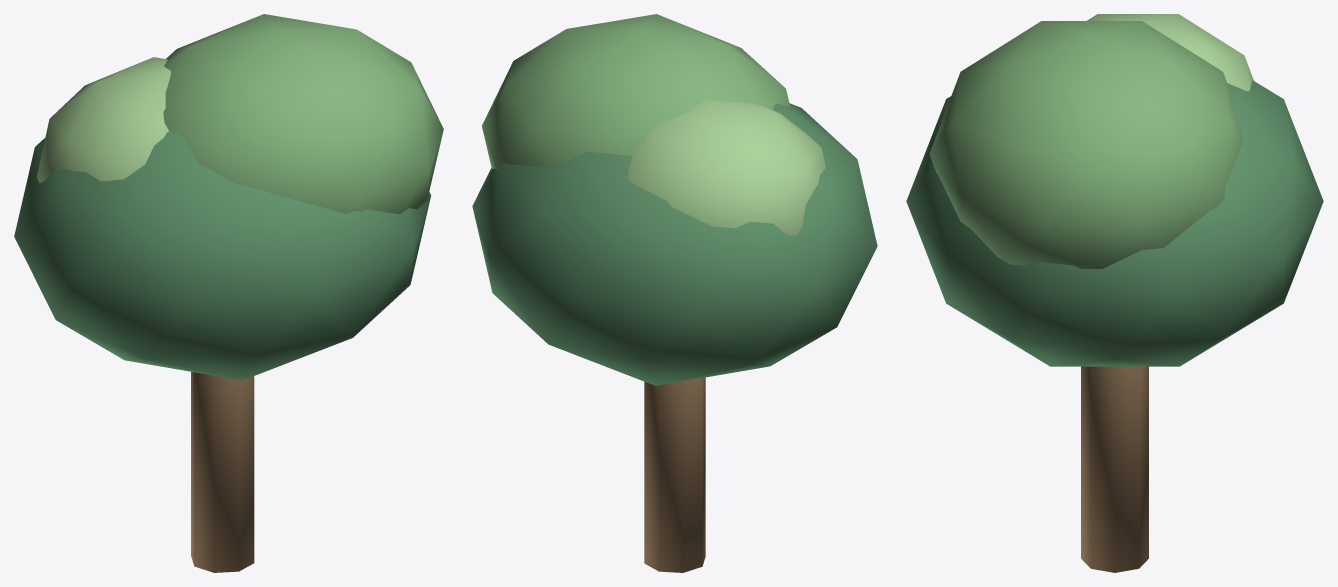
Rendered from tree.glb.
3 views of the same model, side by side, from view 1: azimuth 30°, elevation 25°; view 2: azimuth 150°, elevation 25°; view 3: azimuth 270°, elevation 25° (orthographic). The views are drawn at different scales.
Visible parts, largest first — view 1: CanopyLow, CanopyMid, Trunk, CanopyHigh; view 2: CanopyLow, CanopyMid, CanopyHigh, Trunk; view 3: CanopyMid, CanopyLow, Trunk, CanopyHigh.
Part boxes in pixels (x1,y1,x2,y2): CanopyLow: (14, 131, 431, 380); CanopyMid: (163, 14, 443, 214); Trunk: (191, 371, 254, 572); CanopyHigh: (37, 57, 171, 182); CanopyLow: (472, 103, 877, 385); CanopyMid: (482, 14, 790, 170); CanopyHigh: (627, 99, 825, 235); Trunk: (644, 377, 705, 572); CanopyMid: (929, 21, 1243, 268); CanopyLow: (906, 80, 1323, 366); Trunk: (1081, 366, 1148, 572); CanopyHigh: (1087, 14, 1253, 91).
Bounding box in the file's own units: 2.82 × 3.9 × 2.7.
